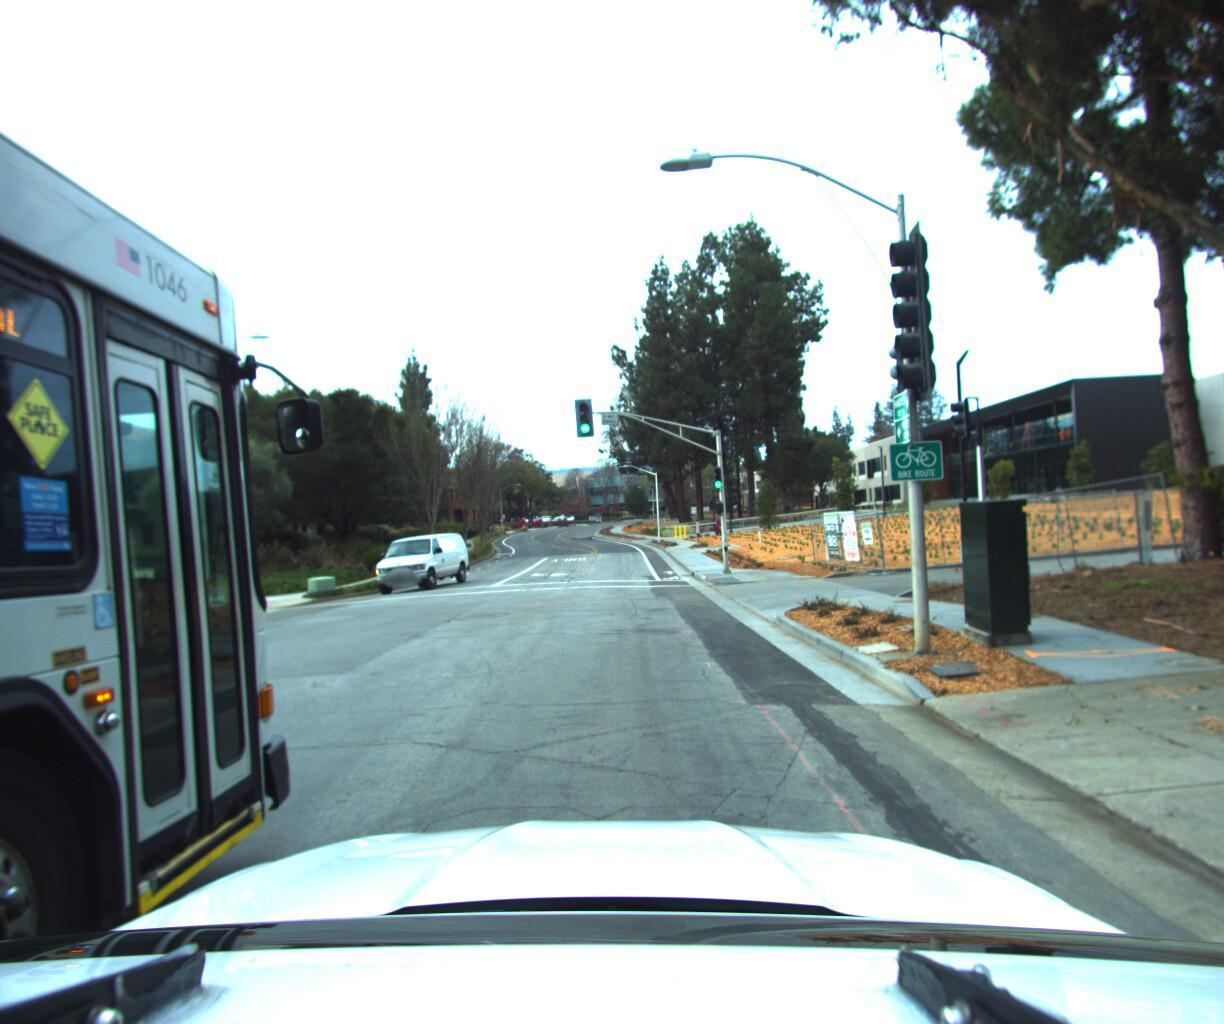car: (371, 528, 476, 596), (573, 520, 597, 538)
